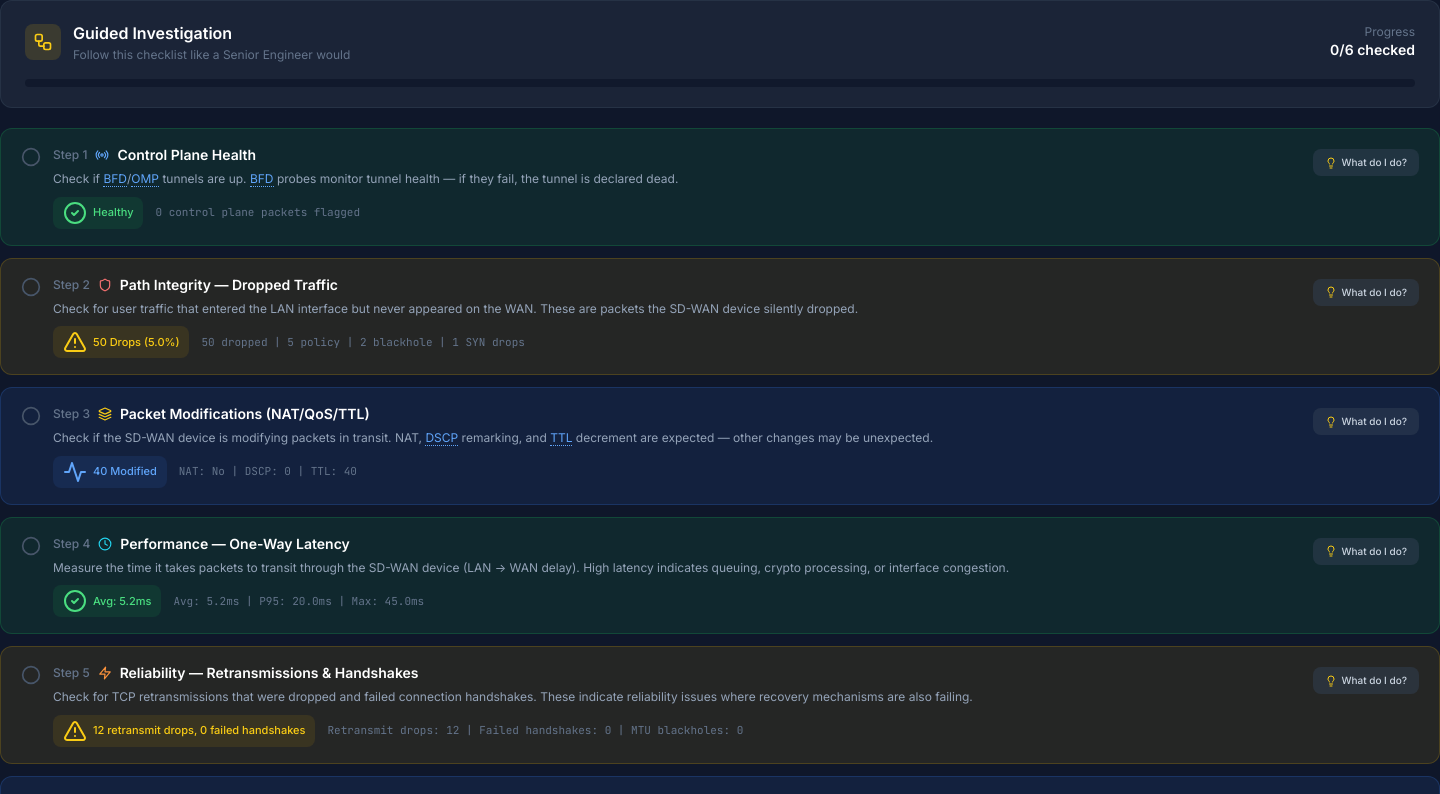
Test: GuidedTroubleshooting › toggles a checklist item when clicked
The image size is (1440, 794).
expect the text "0/6 checked" is shown: met, box [1330, 40, 1415, 60]
Click the button named "Mark as reviewed" in the row of "Control Plane Health".
click(31, 157)  # box [21, 147, 41, 167]
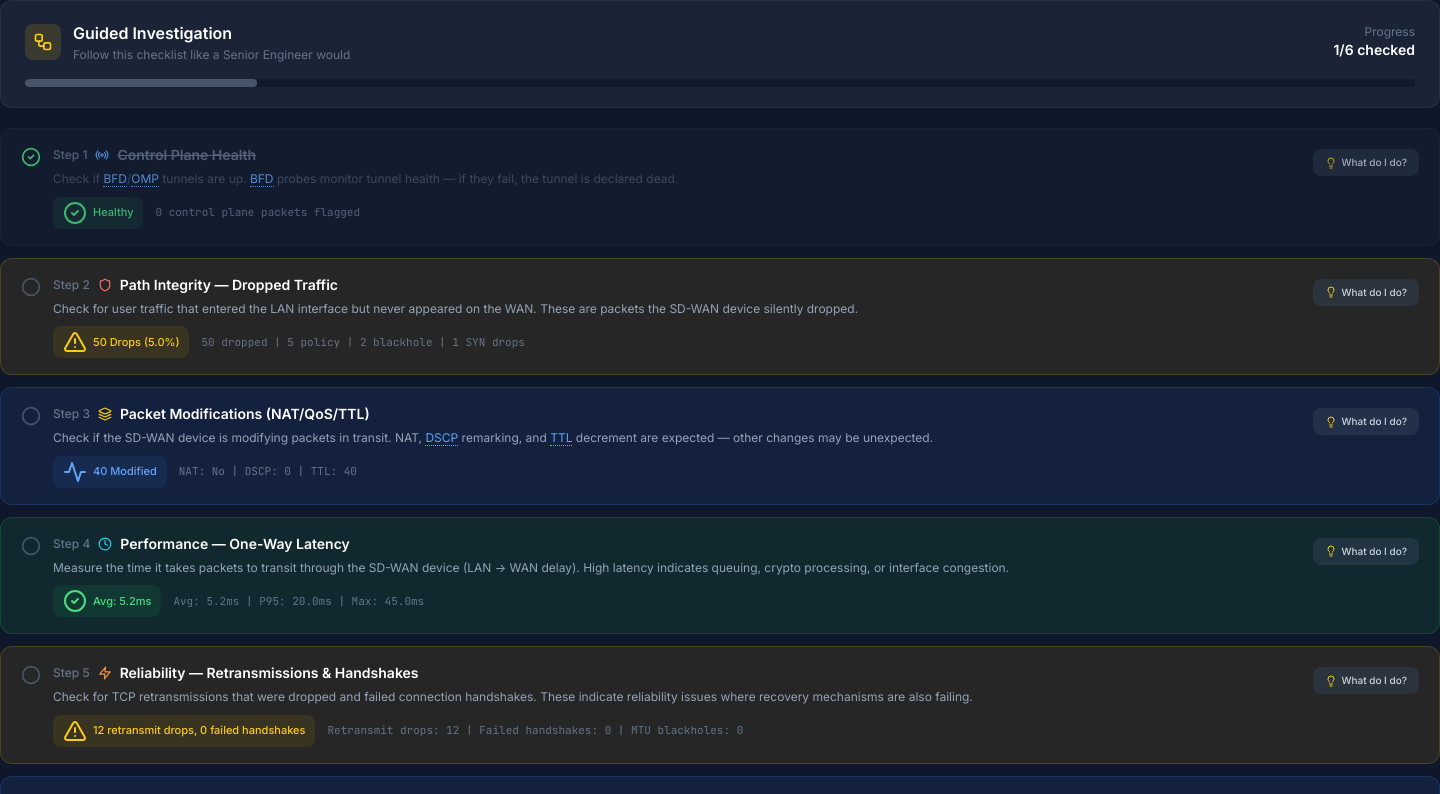
expect the text "1/6 checked" is shown: met, box [1333, 40, 1415, 60]
